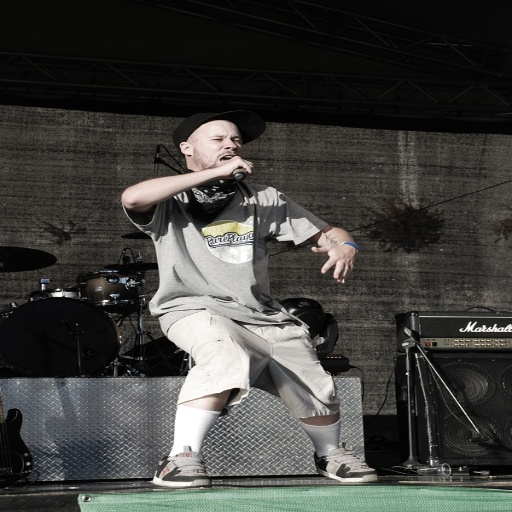hand: (313, 225, 359, 281), (218, 154, 256, 179)
